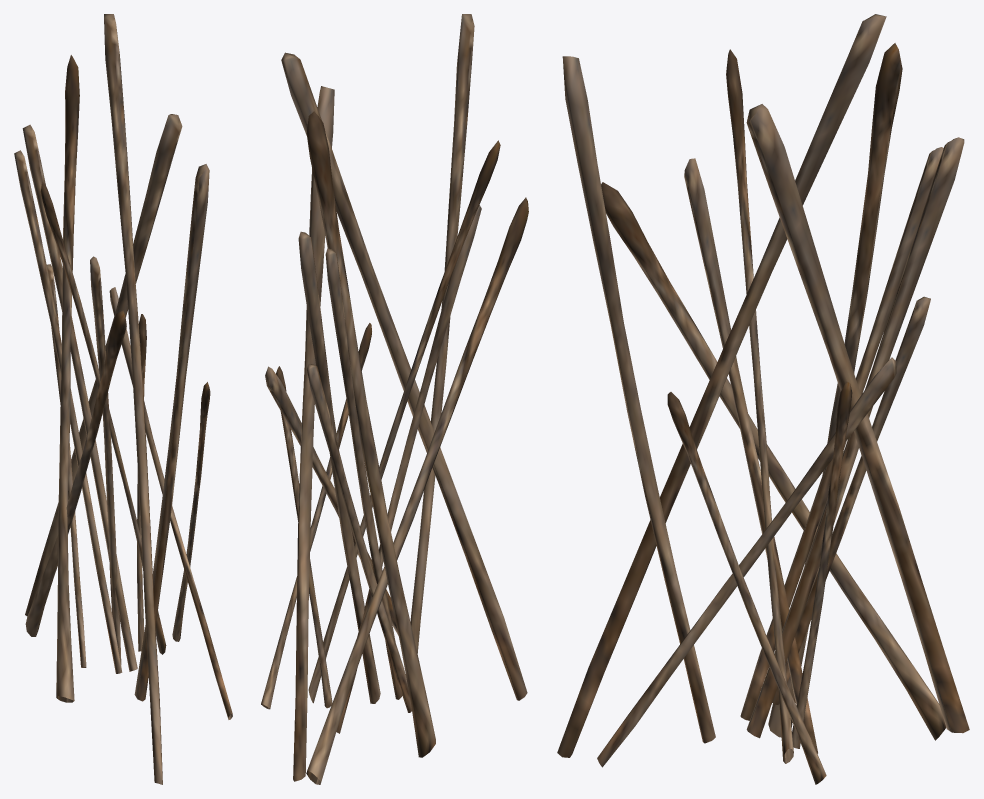
The model's file is InterruptorBlocker.fbx.
3 renders of one model, left to right at view 1: azimuth 30°, elevation 25°; view 2: azimuth 150°, elevation 25°; view 3: azimuth 270°, elevation 25°, orthographic. The views are drawn at different scales.
Visible parts, largest first — view 1: SM_Entity_InterruptorBlocker_01.mo; view 2: SM_Entity_InterruptorBlocker_01.mo; view 3: SM_Entity_InterruptorBlocker_01.mo.
Boxes of the visible parts, x1,y1,x2,y2 form: SM_Entity_InterruptorBlocker_01.mo: (14,14,232,784); SM_Entity_InterruptorBlocker_01.mo: (261,14,528,784); SM_Entity_InterruptorBlocker_01.mo: (557,14,969,784).
Bounding box in the file's own units: 77.32 × 275 × 130.
